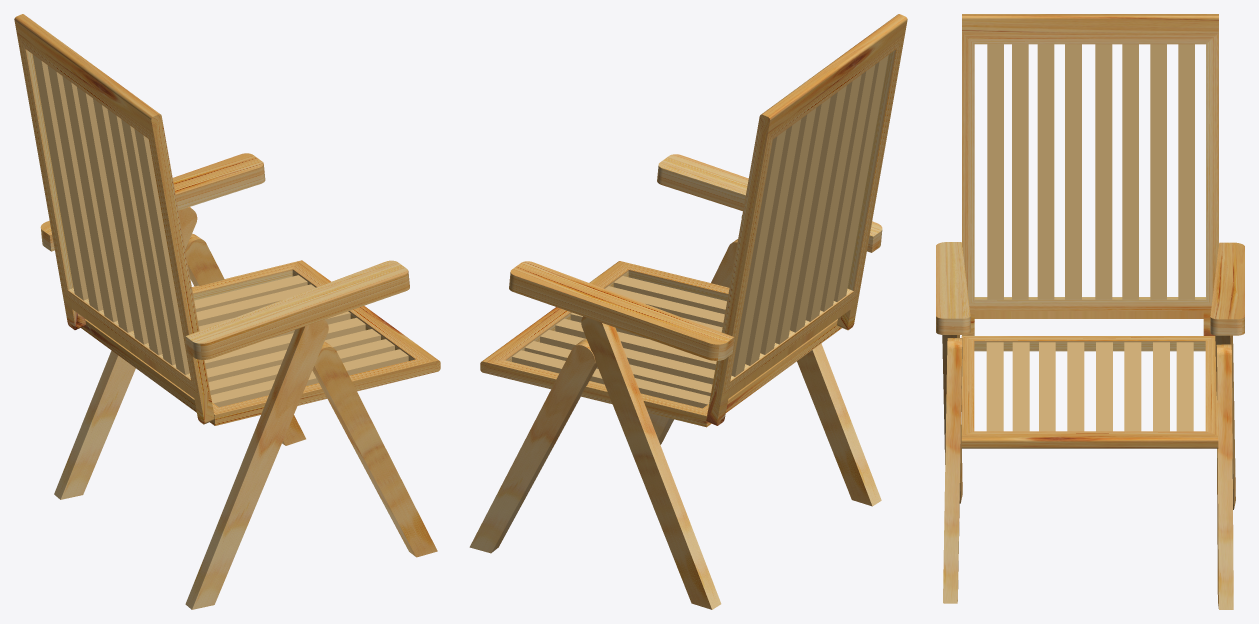
Rendered from PatioChair.fbx.
3 views of the same model, side by side, from view 1: azimuth 30°, elevation 25°; view 2: azimuth 150°, elevation 25°; view 3: azimuth 270°, elevation 25° (orthographic). The views are drawn at different scales.
Parts seen in each view (by area): view 1: pPipe3, pPipe4, pCube33, pCube38, pCube35, pCube34, pCube37, pCube36; view 2: pPipe3, pPipe4, pCube34, pCube37, pCube36, pCube33, pCube38, pCube35; view 3: pPipe3, pPipe4, pCube36, pCube35, pCube37, pCube38, pCube34, pCube33.
Part boxes in pixels (x1,y1,x2,y2): pPipe3: [14, 14, 214, 424]; pPipe4: [81, 260, 440, 425]; pCube33: [185, 319, 328, 609]; pCube38: [185, 260, 409, 359]; pCube35: [312, 341, 437, 557]; pCube34: [54, 207, 197, 499]; pCube37: [40, 153, 265, 251]; pCube36: [185, 233, 305, 445]; pPipe3: [706, 14, 907, 425]; pPipe4: [480, 261, 841, 427]; pCube34: [581, 316, 721, 609]; pCube37: [509, 261, 734, 360]; pCube36: [469, 339, 597, 553]; pCube33: [741, 215, 881, 506]; pCube38: [657, 154, 882, 252]; pCube35: [648, 239, 737, 444]; pPipe3: [962, 14, 1218, 335]; pPipe4: [961, 336, 1218, 448]; pCube36: [1216, 344, 1233, 609]; pCube35: [943, 338, 962, 603]; pCube37: [1210, 242, 1244, 335]; pCube38: [936, 242, 970, 334]; pCube34: [1215, 335, 1235, 509]; pCube33: [942, 335, 962, 503].
Size of the model in its own units: 7.43 by 12.07 by 7.25.
1 material, 1 textured.
